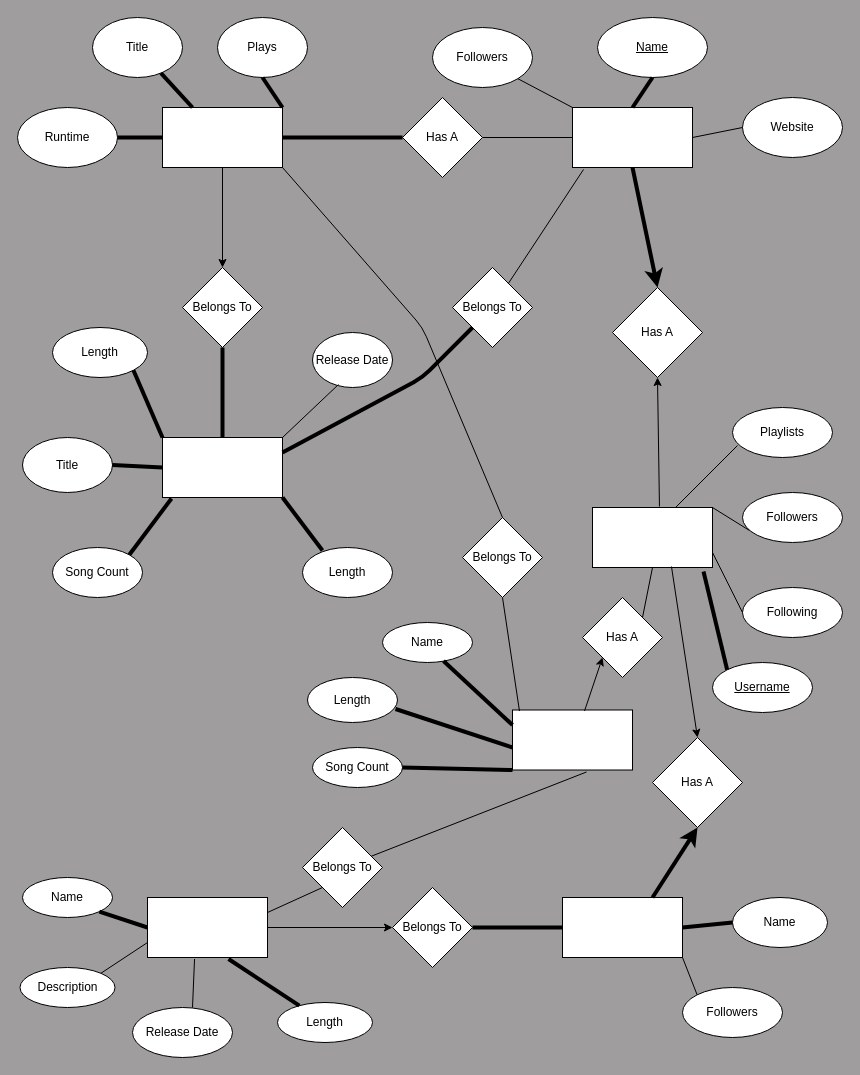
Some shapes in this 860 by 1075 pixel diagram are drawn without their labels. The centre of each missing label's shape, as x and y in pixels:
Album: the point at 222,467
Artist: the point at 632,137
Episodes: the point at 207,927
Playlist: the point at 572,739
Podcasts: the point at 622,927
Song: the point at 222,137
User: the point at 652,537
